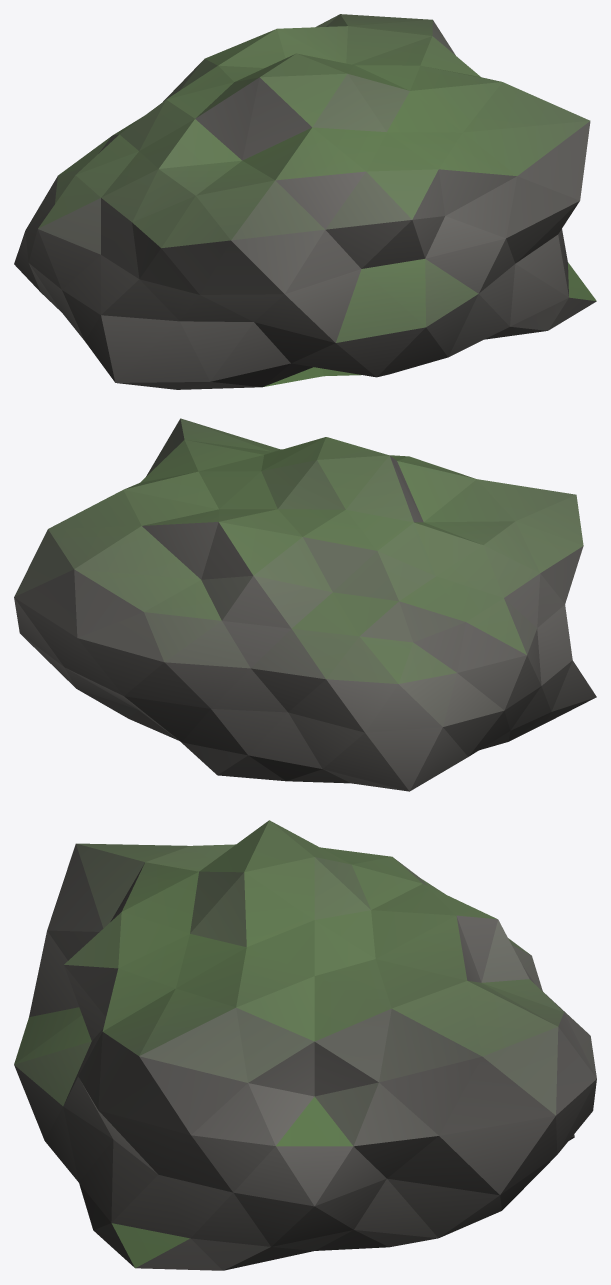
File: Rock_S.glb
3 renders of one model, top to bottom at view 1: azimuth 30°, elevation 25°; view 2: azimuth 150°, elevation 25°; view 3: azimuth 270°, elevation 25°, orthographic. The views are drawn at different scales.
Parts seen in each view (by area): view 1: Rock_S; view 2: Rock_S; view 3: Rock_S.
Boxes of the visible parts, left/top/right/bottom form: Rock_S: left=14, top=14, right=596, bottom=389; Rock_S: left=14, top=418, right=596, bottom=791; Rock_S: left=14, top=820, right=596, bottom=1270.
Bounding box in the file's own units: 1.38 × 0.6753 × 1.23.
